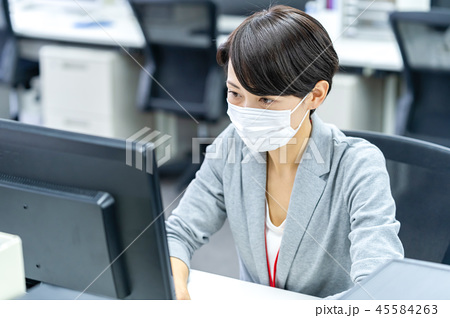mask: (223, 106, 307, 165)
